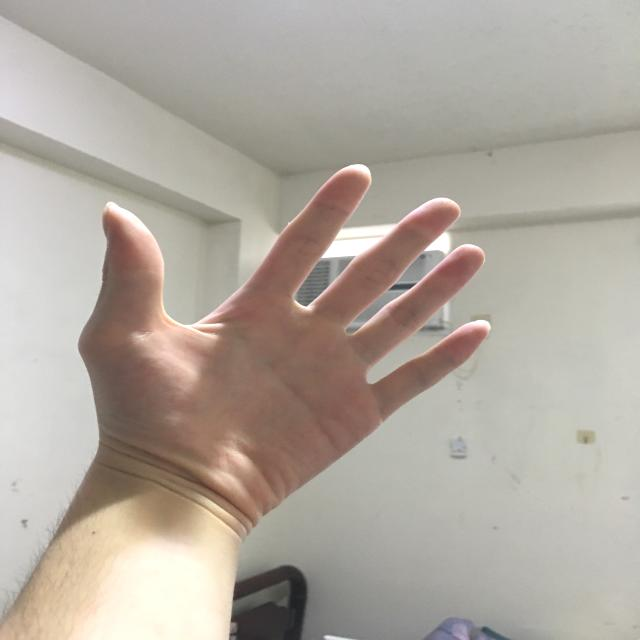no_glove: (67, 148, 519, 549)
